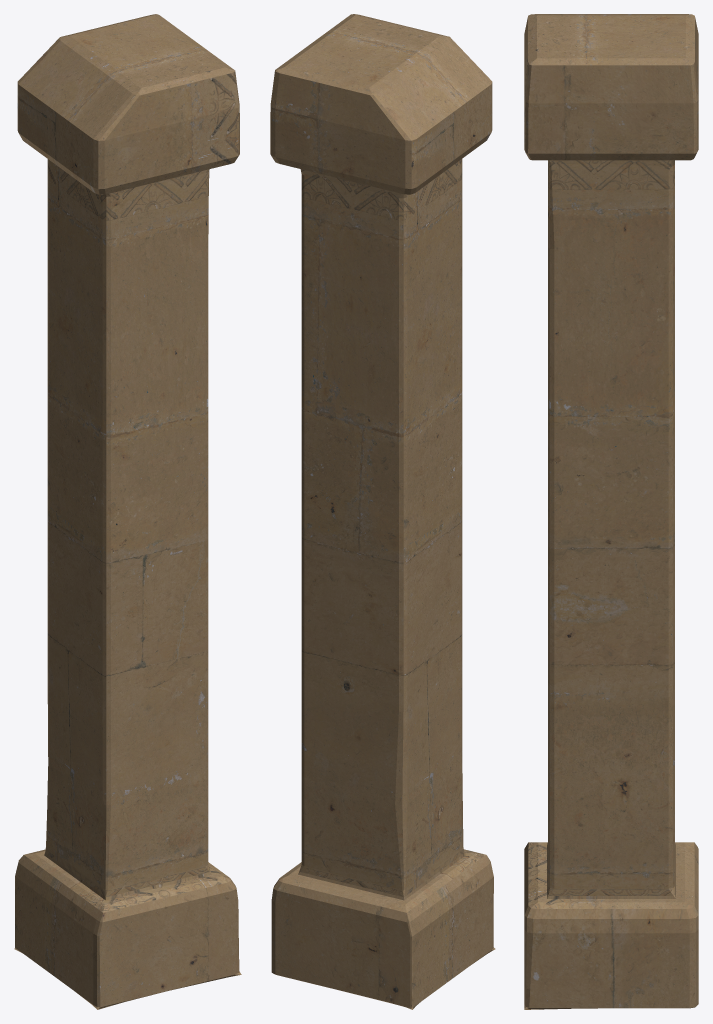
The model's file is SM_Fence_01.fbx.
3 renders of one model, left to right at view 1: azimuth 30°, elevation 25°; view 2: azimuth 150°, elevation 25°; view 3: azimuth 270°, elevation 25°, orthographic. The views are drawn at different scales.
Parts seen in each view (by area): view 1: SM_Fence_01; view 2: SM_Fence_01; view 3: SM_Fence_01.
Boxes of the visible parts, x1=… form: SM_Fence_01: x1=14, y1=14, x2=241, y2=1009; SM_Fence_01: x1=270, y1=14, x2=495, y2=1009; SM_Fence_01: x1=524, y1=14, x2=698, y2=1009.
Bounding box in the file's own units: 20 × 120 × 20.
